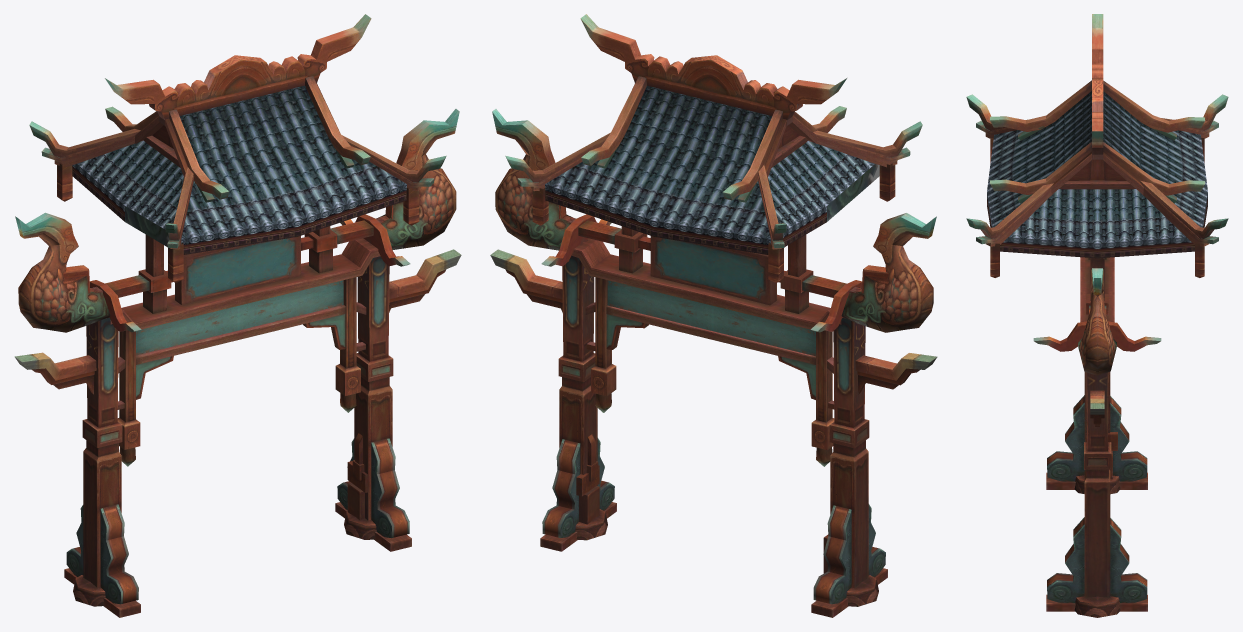
Rendered from cj_luoyang_paifang01_54_00_8470out.fbx.
3 views of the same model, side by side, from view 1: azimuth 30°, elevation 25°; view 2: azimuth 150°, elevation 25°; view 3: azimuth 270°, elevation 25° (orthographic). The views are drawn at different scales.
Visible parts, largest first — view 1: cj_luoyang_paifang01; view 2: cj_luoyang_paifang01; view 3: cj_luoyang_paifang01.
Boxes of the visible parts, left/top/right/bottom form: cj_luoyang_paifang01: left=14, top=14, right=461, bottom=617; cj_luoyang_paifang01: left=490, top=14, right=937, bottom=617; cj_luoyang_paifang01: left=966, top=14, right=1228, bottom=617.
Bounding box in the file's own units: 8.34 × 9.3 × 4.67.
